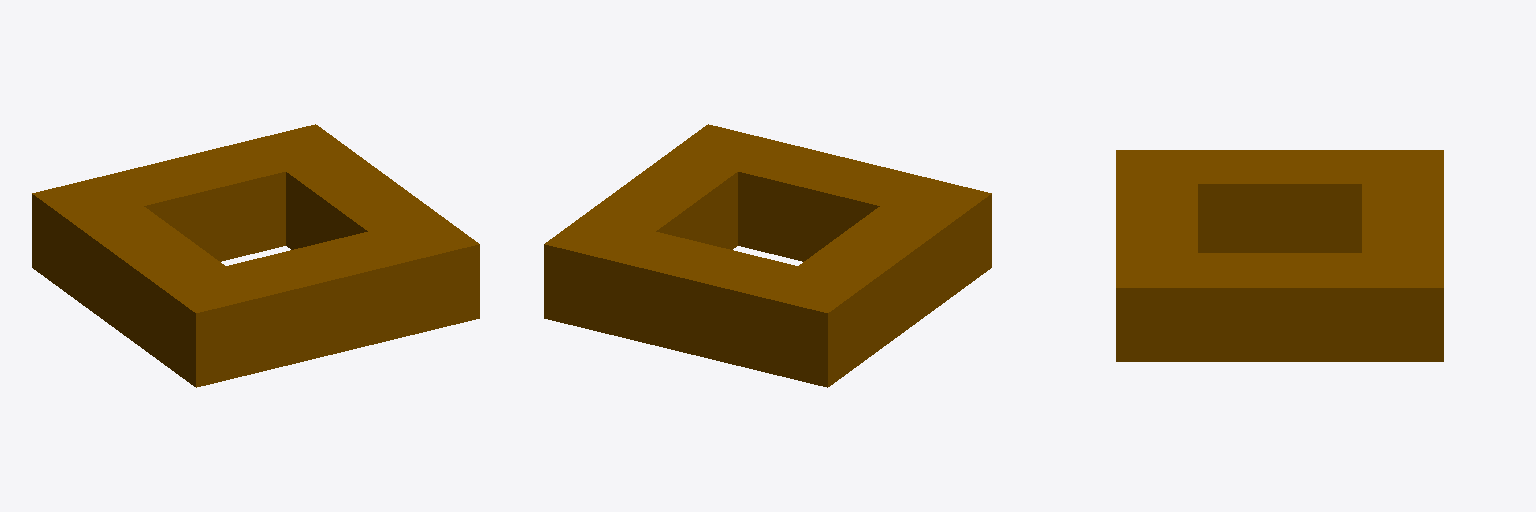
The model's file is tierra.obj.
3 renders of one model, left to right at view 1: azimuth 30°, elevation 25°; view 2: azimuth 150°, elevation 25°; view 3: azimuth 270°, elevation 25°, orthographic.
Size of the model in its own units: 2 by 0.5 by 2.